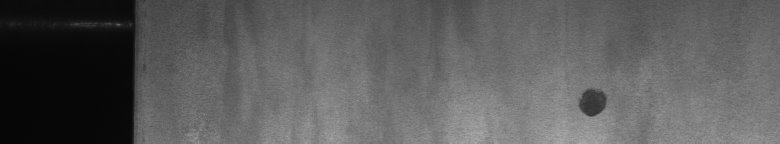fi: (573, 80, 613, 124)
